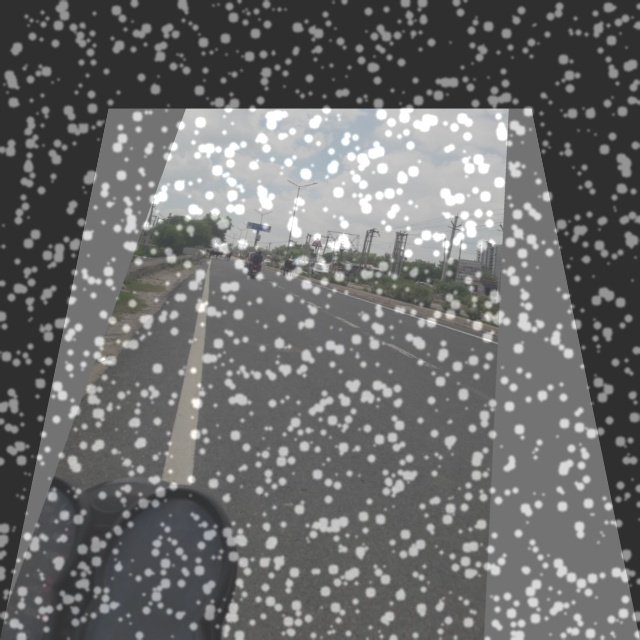Gap_in_Median: (308, 234, 325, 249)
